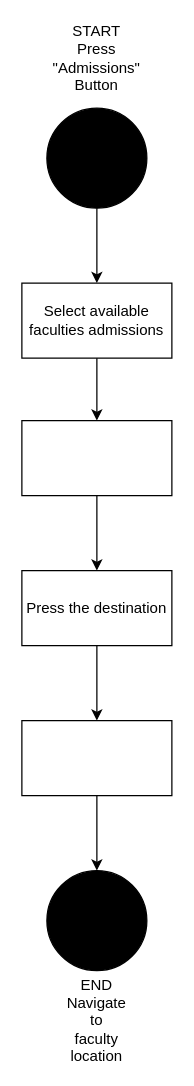
This 194x1086 diagram has some shape labels left out. The shapes that lost their labels are listed below. From the top down, each one's centre as x and y in pixels, then its label:
pixel 96 457: Press "Location" button
pixel 96 757: Select travelling by car
